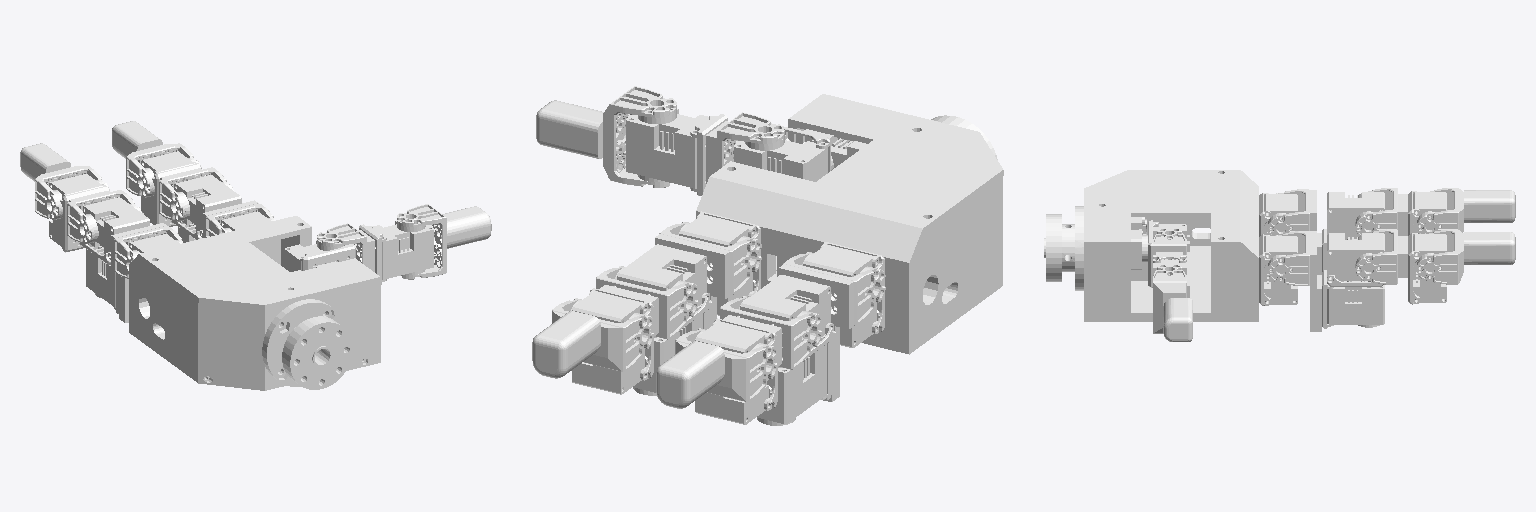
URDF robot description (GX11):
<?xml version="1.0" encoding="utf-8"?>
<!-- This URDF was automatically created by SolidWorks to URDF Exporter! Originally created by Stephen Brawner (brawner@gmail.com) 
     Commit Version: 1.6.0-4-g7f85cfe  Build Version: 1.6.7995.38578
     For more information, please see http://wiki.ros.org/sw_urdf_exporter -->
<robot
  name="GX11">
  <link
    name="base_link">
    <inertial>
      <origin
        xyz="-0.000164465254966286 0.0753636764228905 -0.000506878057324069"
        rpy="0 0 0" />
      <mass
        value="0.266277587847292" />
      <inertia
        ixx="0.000187302227077025"
        ixy="1.5370580827788E-05"
        ixz="6.53664500625844E-06"
        iyy="0.000234511583653576"
        iyz="-7.69527139734874E-06"
        izz="0.000333571603957182" />
    </inertial>
    <visual>
      <origin
        xyz="0 0 0"
        rpy="0 0 0" />
      <geometry>
        <mesh
          filename="meshes/base_link.STL" />
      </geometry>
      <material
        name="">
        <color
          rgba="1 1 1 1" />
      </material>
    </visual>
    <collision>
      <origin
        xyz="0 0 0"
        rpy="0 0 0" />
      <geometry>
        <mesh
          filename="meshes/base_link.STL" />
      </geometry>
    </collision>
  </link>
  <link
    name="link1">
    <inertial>
      <origin
        xyz="-0.00806405790907332 -0.000279377679083986 -0.00113281933961043"
        rpy="0 0 0" />
      <mass
        value="0.0176678393044671" />
      <inertia
        ixx="1.47006653227034E-06"
        ixy="1.17278886070137E-08"
        ixz="4.36396719283536E-15"
        iyy="2.21216244462258E-06"
        iyz="-1.53911853230504E-16"
        izz="2.71458475514186E-06" />
    </inertial>
    <visual>
      <origin
        xyz="0 0 0"
        rpy="0 0 0" />
      <geometry>
        <mesh
          filename="meshes/link1.STL" />
      </geometry>
      <material
        name="">
        <color
          rgba="1 1 1 1" />
      </material>
    </visual>
    <collision>
      <origin
        xyz="0 0 0"
        rpy="0 0 0" />
      <geometry>
        <mesh
          filename="meshes/link1.STL" />
      </geometry>
    </collision>
  </link>
  <joint
    name="joint1"
    type="revolute">
    <origin
      xyz="0.0330000000000006 0.0735000000000002 0.0150000000000006"
      rpy="1.5707963267949 0 -3.14159265358979" />
    <parent
      link="base_link" />
    <child
      link="link1" />
    <axis
      xyz="0 0 -1" />
    <limit
      lower="-0.349"
      upper="2.049"
      effort="0"
      velocity="0" />
  </joint>
  <link
    name="link2">
    <inertial>
      <origin
        xyz="0.0364441226647731 1.69664629567912E-14 -0.000227157618897906"
        rpy="0 0 0" />
      <mass
        value="0.021729405455091" />
      <inertia
        ixx="2.15176535186668E-06"
        ixy="5.80286874153467E-18"
        ixz="-1.17278836895553E-08"
        iyy="3.16845263970642E-06"
        iyz="1.34205099819563E-18"
        izz="2.34350105652615E-06" />
    </inertial>
    <visual>
      <origin
        xyz="0 0 0"
        rpy="0 0 0" />
      <geometry>
        <mesh
          filename="meshes/link2.STL" />
      </geometry>
      <material
        name="">
        <color
          rgba="1 1 1 1" />
      </material>
    </visual>
    <collision>
      <origin
        xyz="0 0 0"
        rpy="0 0 0" />
      <geometry>
        <mesh
          filename="meshes/link2.STL" />
      </geometry>
    </collision>
  </link>
  <joint
    name="joint2"
    type="revolute">
    <origin
      xyz="-0.015 0 0"
      rpy="1.5707963267949 0 3.14159265358979" />
    <parent
      link="link1" />
    <child
      link="link2" />
    <axis
      xyz="0 0 1" />
    <limit
      lower="-1.9"
      upper="1.2"
      effort="0"
      velocity="0" />
  </joint>
  <link
    name="link3">
    <inertial>
      <origin
        xyz="0.0100787253876422 2.82144967111986E-13 -1.36311968657044E-12"
        rpy="0 0 0" />
      <mass
        value="0.00246574345897091" />
      <inertia
        ixx="5.18359333243009E-07"
        ixy="3.43589587907983E-18"
        ixz="-2.71094054875865E-17"
        iyy="5.59493403624435E-07"
        iyz="2.78028007694911E-18"
        izz="2.11674207292557E-07" />
    </inertial>
    <visual>
      <origin
        xyz="0 0 0"
        rpy="0 0 0" />
      <geometry>
        <mesh
          filename="meshes/link3.STL" />
      </geometry>
      <material
        name="">
        <color
          rgba="1 1 1 1" />
      </material>
    </visual>
    <collision>
      <origin
        xyz="0 0 0"
        rpy="0 0 0" />
      <geometry>
        <mesh
          filename="meshes/link3.STL" />
      </geometry>
    </collision>
  </link>
  <joint
    name="joint3"
    type="revolute">
    <origin
      xyz="0.0505 0 0"
      rpy="0 0 0" />
    <parent
      link="link2" />
    <child
      link="link3" />
    <axis
      xyz="0 0 1" />
    <limit
      lower="-1.88"
      upper="1.34"
      effort="0"
      velocity="0" />
  </joint>
  <link
    name="link12">
    <inertial>
      <origin
        xyz="3.46944695195361E-17 -0.00898026519389988 -0.0145655012265942"
        rpy="0 0 0" />
      <mass
        value="0.00894831293844984" />
      <inertia
        ixx="1.08600924376269E-06"
        ixy="8.01381529860204E-23"
        ixz="2.56978183344234E-22"
        iyy="1.09973813711699E-06"
        iyz="-7.62246403180969E-08"
        izz="4.62359953629273E-07" />
    </inertial>
    <visual>
      <origin
        xyz="0 0 0"
        rpy="0 0 0" />
      <geometry>
        <mesh
          filename="meshes/link12.STL" />
      </geometry>
      <material
        name="">
        <color
          rgba="1 1 1 1" />
      </material>
    </visual>
    <collision>
      <origin
        xyz="0 0 0"
        rpy="0 0 0" />
      <geometry>
        <mesh
          filename="meshes/link12.STL" />
      </geometry>
    </collision>
  </link>
  <joint
    name="joint12"
    type="fixed">
    <origin
      xyz="0.0469999999999999 0.0137000000000001 0"
      rpy="0 1.5707963267949 0" />
    <parent
      link="link3" />
    <child
      link="link12" />
    <axis
      xyz="0 0 0" />
  </joint>
  <link
    name="link4">
    <inertial>
      <origin
        xyz="0.0343877567351039 -0.0218255061736887 -1.15761566998884E-13"
        rpy="0 0 0" />
      <mass
        value="0.0259800201623954" />
      <inertia
        ixx="3.93599324991521E-06"
        ixy="5.40235204916179E-08"
        ixz="-2.949285819455E-17"
        iyy="3.03368719937256E-06"
        iyz="4.16597072590372E-18"
        izz="4.29362563855091E-06" />
    </inertial>
    <visual>
      <origin
        xyz="0 0 0"
        rpy="0 0 0" />
      <geometry>
        <mesh
          filename="meshes/link4.STL" />
      </geometry>
      <material
        name="">
        <color
          rgba="1 1 1 1" />
      </material>
    </visual>
    <collision>
      <origin
        xyz="0 0 0"
        rpy="0 0 0" />
      <geometry>
        <mesh
          filename="meshes/link4.STL" />
      </geometry>
    </collision>
  </link>
  <joint
    name="joint4"
    type="revolute">
    <origin
      xyz="0.0330300000000006 0.139 0.00850000000000064"
      rpy="1.5707963267949 0 1.5707963267949" />
    <parent
      link="base_link" />
    <child
      link="link4" />
    <axis
      xyz="0 0 1" />
    <limit
      lower="-0.314"
      upper="2.23"
      effort="0"
      velocity="0" />
  </joint>
  <link
    name="link5">
    <inertial>
      <origin
        xyz="-0.00693594209092663 -0.000279377685954034 0.0118671806603896"
        rpy="0 0 0" />
      <mass
        value="0.0176678393044671" />
      <inertia
        ixx="1.47006653227034E-06"
        ixy="-1.17278787190915E-08"
        ixz="-4.36396490918008E-15"
        iyy="2.21216244462258E-06"
        iyz="1.53911597174954E-16"
        izz="2.71458475514186E-06" />
    </inertial>
    <visual>
      <origin
        xyz="0 0 0"
        rpy="0 0 0" />
      <geometry>
        <mesh
          filename="meshes/link5.STL" />
      </geometry>
      <material
        name="">
        <color
          rgba="1 1 1 1" />
      </material>
    </visual>
    <collision>
      <origin
        xyz="0 0 0"
        rpy="0 0 0" />
      <geometry>
        <mesh
          filename="meshes/link5.STL" />
      </geometry>
    </collision>
  </link>
  <joint
    name="joint5"
    type="revolute">
    <origin
      xyz="0.0515 -0.0119999999999999 0"
      rpy="-1.5707963267949 0 0" />
    <parent
      link="link4" />
    <child
      link="link5" />
    <axis
      xyz="0 0 -1" />
    <limit
      lower="-1.047"
      upper="1.047"
      effort="0"
      velocity="0" />
  </joint>
  <link
    name="link6">
    <inertial>
      <origin
        xyz="0.0306969035122455 -0.00550289582695564 -0.000221655001767691"
        rpy="0 0 0" />
      <mass
        value="0.0222688407505917" />
      <inertia
        ixx="3.39223294772673E-06"
        ixy="4.35938737995605E-15"
        ixz="-1.26854669454519E-16"
        iyy="2.14774478329264E-06"
        iyz="-1.1727878716268E-08"
        izz="2.47775221178215E-06" />
    </inertial>
    <visual>
      <origin
        xyz="0 0 0"
        rpy="0 0 0" />
      <geometry>
        <mesh
          filename="meshes/link6.STL" />
      </geometry>
      <material
        name="">
        <color
          rgba="1 1 1 1" />
      </material>
    </visual>
    <collision>
      <origin
        xyz="0 0 0"
        rpy="0 0 0" />
      <geometry>
        <mesh
          filename="meshes/link6.STL" />
      </geometry>
    </collision>
  </link>
  <joint
    name="joint6"
    type="revolute">
    <origin
      xyz="0 0 0.013"
      rpy="1.5707963267949 0 0" />
    <parent
      link="link5" />
    <child
      link="link6" />
    <axis
      xyz="0 0 1" />
    <limit
      lower="-0.506"
      upper="1.885"
      effort="0"
      velocity="0" />
  </joint>
  <link
    name="link7">
    <inertial>
      <origin
        xyz="0.0100787253876422 -2.8215624281458E-13 1.36310407405915E-12"
        rpy="0 0 0" />
      <mass
        value="0.00246574345897091" />
      <inertia
        ixx="5.18359333243008E-07"
        ixy="-3.43607326214373E-18"
        ixz="2.71095720130504E-17"
        iyy="5.59493403624435E-07"
        iyz="2.78057194324107E-18"
        izz="2.11674207292557E-07" />
    </inertial>
    <visual>
      <origin
        xyz="0 0 0"
        rpy="0 0 0" />
      <geometry>
        <mesh
          filename="meshes/link7.STL" />
      </geometry>
      <material
        name="">
        <color
          rgba="1 1 1 1" />
      </material>
    </visual>
    <collision>
      <origin
        xyz="0 0 0"
        rpy="0 0 0" />
      <geometry>
        <mesh
          filename="meshes/link7.STL" />
      </geometry>
    </collision>
  </link>
  <joint
    name="joint7"
    type="revolute">
    <origin
      xyz="0.036 0 0"
      rpy="0 0 0" />
    <parent
      link="link6" />
    <child
      link="link7" />
    <axis
      xyz="0 0 1" />
    <limit
      lower="-0.366"
      upper="2.042"
      effort="0"
      velocity="0" />
  </joint>
  <link
    name="link13">
    <inertial>
      <origin
        xyz="1.11022302462516E-16 -0.00898026519389981 -0.0145655012265943"
        rpy="0 0 0" />
      <mass
        value="0.00894831293844983" />
      <inertia
        ixx="1.08600924376269E-06"
        ixy="1.32098947912817E-22"
        ixz="-5.37016443633105E-23"
        iyy="1.09973813711699E-06"
        iyz="-7.62246403180954E-08"
        izz="4.62359953629271E-07" />
    </inertial>
    <visual>
      <origin
        xyz="0 0 0"
        rpy="0 0 0" />
      <geometry>
        <mesh
          filename="meshes/link13.STL" />
      </geometry>
      <material
        name="">
        <color
          rgba="1 1 1 1" />
      </material>
    </visual>
    <collision>
      <origin
        xyz="0 0 0"
        rpy="0 0 0" />
      <geometry>
        <mesh
          filename="meshes/link13.STL" />
      </geometry>
    </collision>
  </link>
  <joint
    name="joint13"
    type="fixed">
    <origin
      xyz="0.0470000000000001 0.0137000000000001 0"
      rpy="0 1.5707963267949 0" />
    <parent
      link="link7" />
    <child
      link="link13" />
    <axis
      xyz="0 0 0" />
  </joint>
  <link
    name="link8">
    <inertial>
      <origin
        xyz="-0.0343877567351039 0.0218255061737422 1.42993256124768E-13"
        rpy="0 0 0" />
      <mass
        value="0.0259800201623954" />
      <inertia
        ixx="3.93599324991522E-06"
        ixy="5.40235204847462E-08"
        ixz="-2.47259710429413E-17"
        iyy="3.03368719937256E-06"
        iyz="-4.16619485524084E-18"
        izz="4.29362563855092E-06" />
    </inertial>
    <visual>
      <origin
        xyz="0 0 0"
        rpy="0 0 0" />
      <geometry>
        <mesh
          filename="meshes/link8.STL" />
      </geometry>
      <material
        name="">
        <color
          rgba="1 1 1 1" />
      </material>
    </visual>
    <collision>
      <origin
        xyz="0 0 0"
        rpy="0 0 0" />
      <geometry>
        <mesh
          filename="meshes/link8.STL" />
      </geometry>
    </collision>
  </link>
  <joint
    name="joint8"
    type="revolute">
    <origin
      xyz="-0.0249999999999994 0.139 0.00850000000000061"
      rpy="-1.5707963267949 0 -1.5707963267949" />
    <parent
      link="base_link" />
    <child
      link="link8" />
    <axis
      xyz="0 0 1" />
    <limit
      lower="-0.314"
      upper="2.23"
      effort="0"
      velocity="0" />
  </joint>
  <link
    name="link9">
    <inertial>
      <origin
        xyz="0.00693594212201661 0.000279377679084022 0.0118671806603896"
        rpy="0 0 0" />
      <mass
        value="0.0176678393044671" />
      <inertia
        ixx="1.47006653227034E-06"
        ixy="-1.17278787190916E-08"
        ixz="-4.36396459472373E-15"
        iyy="2.21216244462258E-06"
        iyz="1.53911714305896E-16"
        izz="2.71458475514186E-06" />
    </inertial>
    <visual>
      <origin
        xyz="0 0 0"
        rpy="0 0 0" />
      <geometry>
        <mesh
          filename="meshes/link9.STL" />
      </geometry>
      <material
        name="">
        <color
          rgba="1 1 1 1" />
      </material>
    </visual>
    <collision>
      <origin
        xyz="0 0 0"
        rpy="0 0 0" />
      <geometry>
        <mesh
          filename="meshes/link9.STL" />
      </geometry>
    </collision>
  </link>
  <joint
    name="joint9"
    type="revolute">
    <origin
      xyz="-0.0515 0.012 0"
      rpy="1.5707963267949 0 0" />
    <parent
      link="link8" />
    <child
      link="link9" />
    <axis
      xyz="0 0 -1" />
    <limit
      lower="-1.047"
      upper="1.047"
      effort="0"
      velocity="0" />
  </joint>
  <link
    name="link10">
    <inertial>
      <origin
        xyz="0.0306969035122454 0.00550289582697077 -0.000221655007521429"
        rpy="0 0 0" />
      <mass
        value="0.0222688407505351" />
      <inertia
        ixx="3.3922329477228E-06"
        ixy="-4.36056551258483E-15"
        ixz="1.26802473339664E-16"
        iyy="2.1477447832925E-06"
        iyz="1.17278886097667E-08"
        izz="2.47775221177793E-06" />
    </inertial>
    <visual>
      <origin
        xyz="0 0 0"
        rpy="0 0 0" />
      <geometry>
        <mesh
          filename="meshes/link10.STL" />
      </geometry>
      <material
        name="">
        <color
          rgba="1 1 1 1" />
      </material>
    </visual>
    <collision>
      <origin
        xyz="0 0 0"
        rpy="0 0 0" />
      <geometry>
        <mesh
          filename="meshes/link10.STL" />
      </geometry>
    </collision>
  </link>
  <joint
    name="joint10"
    type="revolute">
    <origin
      xyz="0 0 0.013"
      rpy="-1.5707963267949 0 3.14159265358979" />
    <parent
      link="link9" />
    <child
      link="link10" />
    <axis
      xyz="0 0 -1" />
    <limit
      lower="-0.506"
      upper="1.885"
      effort="0"
      velocity="0" />
  </joint>
  <link
    name="link11">
    <inertial>
      <origin
        xyz="2.80899435656234E-13 -0.0100787253876489 -1.37449426840242E-12"
        rpy="0 0 0" />
      <mass
        value="0.00246574345898603" />
      <inertia
        ixx="5.59493403624487E-07"
        ixy="-3.43594459890773E-18"
        ixz="2.80799894689569E-18"
        iyy="5.18359333242988E-07"
        iyz="2.70749587590219E-17"
        izz="2.11674207292592E-07" />
    </inertial>
    <visual>
      <origin
        xyz="0 0 0"
        rpy="0 0 0" />
      <geometry>
        <mesh
          filename="meshes/link11.STL" />
      </geometry>
      <material
        name="">
        <color
          rgba="1 1 1 1" />
      </material>
    </visual>
    <collision>
      <origin
        xyz="0 0 0"
        rpy="0 0 0" />
      <geometry>
        <mesh
          filename="meshes/link11.STL" />
      </geometry>
    </collision>
  </link>
  <joint
    name="joint11"
    type="revolute">
    <origin
      xyz="0.036 0 0"
      rpy="0 0 1.5707963267949" />
    <parent
      link="link10" />
    <child
      link="link11" />
    <axis
      xyz="0 0 -1" />
    <limit
      lower="-0.366"
      upper="2.042"
      effort="0"
      velocity="0" />
  </joint>
  <link
    name="link14">
    <inertial>
      <origin
        xyz="-2.60208521396521E-16 -0.00898026519389988 -0.0145655012265943"
        rpy="0 0 0" />
      <mass
        value="0.00894831293844984" />
      <inertia
        ixx="1.08600924376269E-06"
        ixy="1.04118824309094E-22"
        ixz="3.28527704400779E-22"
        iyy="1.09973813711699E-06"
        iyz="-7.62246403180963E-08"
        izz="4.62359953629272E-07" />
    </inertial>
    <visual>
      <origin
        xyz="0 0 0"
        rpy="0 0 0" />
      <geometry>
        <mesh
          filename="meshes/link14.STL" />
      </geometry>
      <material
        name="">
        <color
          rgba="1 1 1 1" />
      </material>
    </visual>
    <collision>
      <origin
        xyz="0 0 0"
        rpy="0 0 0" />
      <geometry>
        <mesh
          filename="meshes/link14.STL" />
      </geometry>
    </collision>
  </link>
  <joint
    name="joint14"
    type="fixed">
    <origin
      xyz="-0.0137 -0.047 0"
      rpy="1.5708 -1.5708 0" />
    <parent
      link="link11" />
    <child
      link="link14" />
    <axis
      xyz="0 0 0" />
  </joint>
</robot>

--- What the picture shows (computed from the rendered views, not written in the file) ---
Views: 3 orthographic renders of the robot side by side, from view 1: azimuth 30°, elevation 25°; view 2: azimuth 150°, elevation 25°; view 3: azimuth 270°, elevation 25°.
Model GX11 with 15 links and 14 joints (11 revolute, 3 fixed), rooted at base_link, posed every joint at zero.
Links seen in each view (by area): view 1: base_link, link2, link10, link8, link6, link5, link9, link3, link12, link1, link7, link14 (+3 smaller); view 2: base_link, link2, link8, link10, link6, link4, link13, link14, link12, link1, link9, link5 (+3 smaller); view 3: base_link, link4, link6, link10, link5, link12, link13, link14, link9, link8, link7, link2 (+3 smaller).
Link boxes in pixels (x1,y1,x2,y2): base_link: (129,211,380,390); link2: (317,221,433,284); link10: (49,174,141,252); link8: (86,223,182,322); link6: (141,151,233,226); link5: (172,175,241,239); link9: (80,197,149,264); link3: (397,204,446,279); link12: (434,206,491,248); link1: (285,240,355,271); link7: (126,143,199,197); link14: (20,143,83,181); base_link: (678,94,1003,354); link2: (626,109,784,195); link8: (757,252,885,425); link10: (695,296,821,424); link6: (571,266,697,394); link4: (633,222,761,395); link13: (532,311,622,378); link14: (656,341,745,408); link12: (536,100,625,177); link1: (734,123,830,181); link9: (738,275,835,358); link5: (615,244,711,329); base_link: (1044,170,1297,321); link4: (1268,231,1384,331); link6: (1355,229,1446,304); link10: (1355,188,1446,235); link5: (1327,233,1384,286); link12: (1153,283,1192,341); link13: (1459,230,1515,282); link14: (1459,189,1515,232); link9: (1327,192,1384,239); link8: (1268,189,1326,274); link7: (1417,229,1458,284); link2: (1153,228,1186,275).
Size in the robot's own frame: 0.1985 by 0.2765 by 0.0668 metres.
15 mesh visuals loaded from 15 distinct referenced files (15 binary STL).
